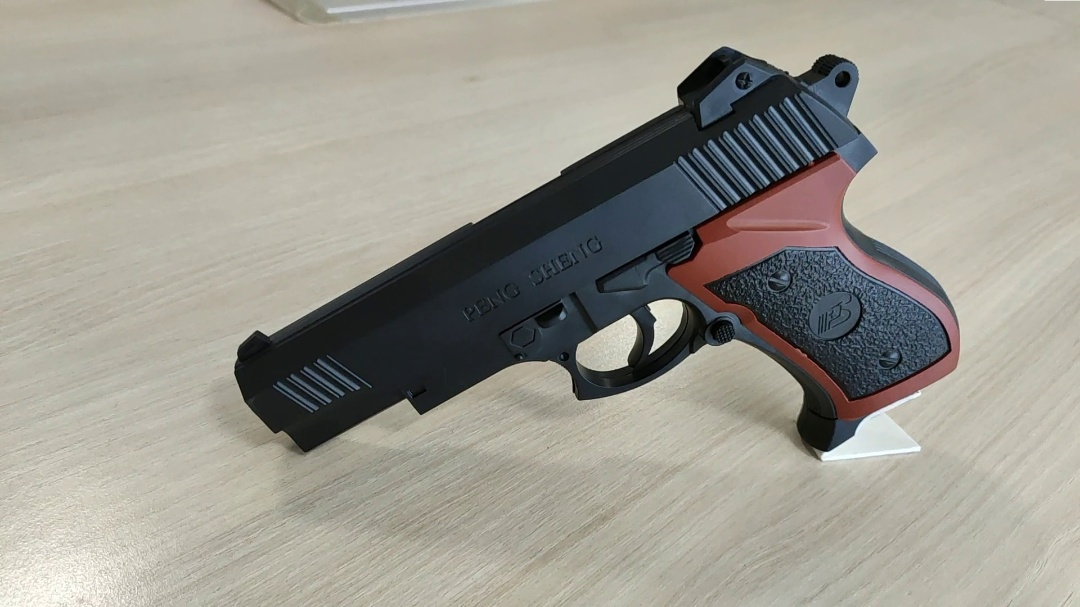gun: (221, 42, 964, 455)
